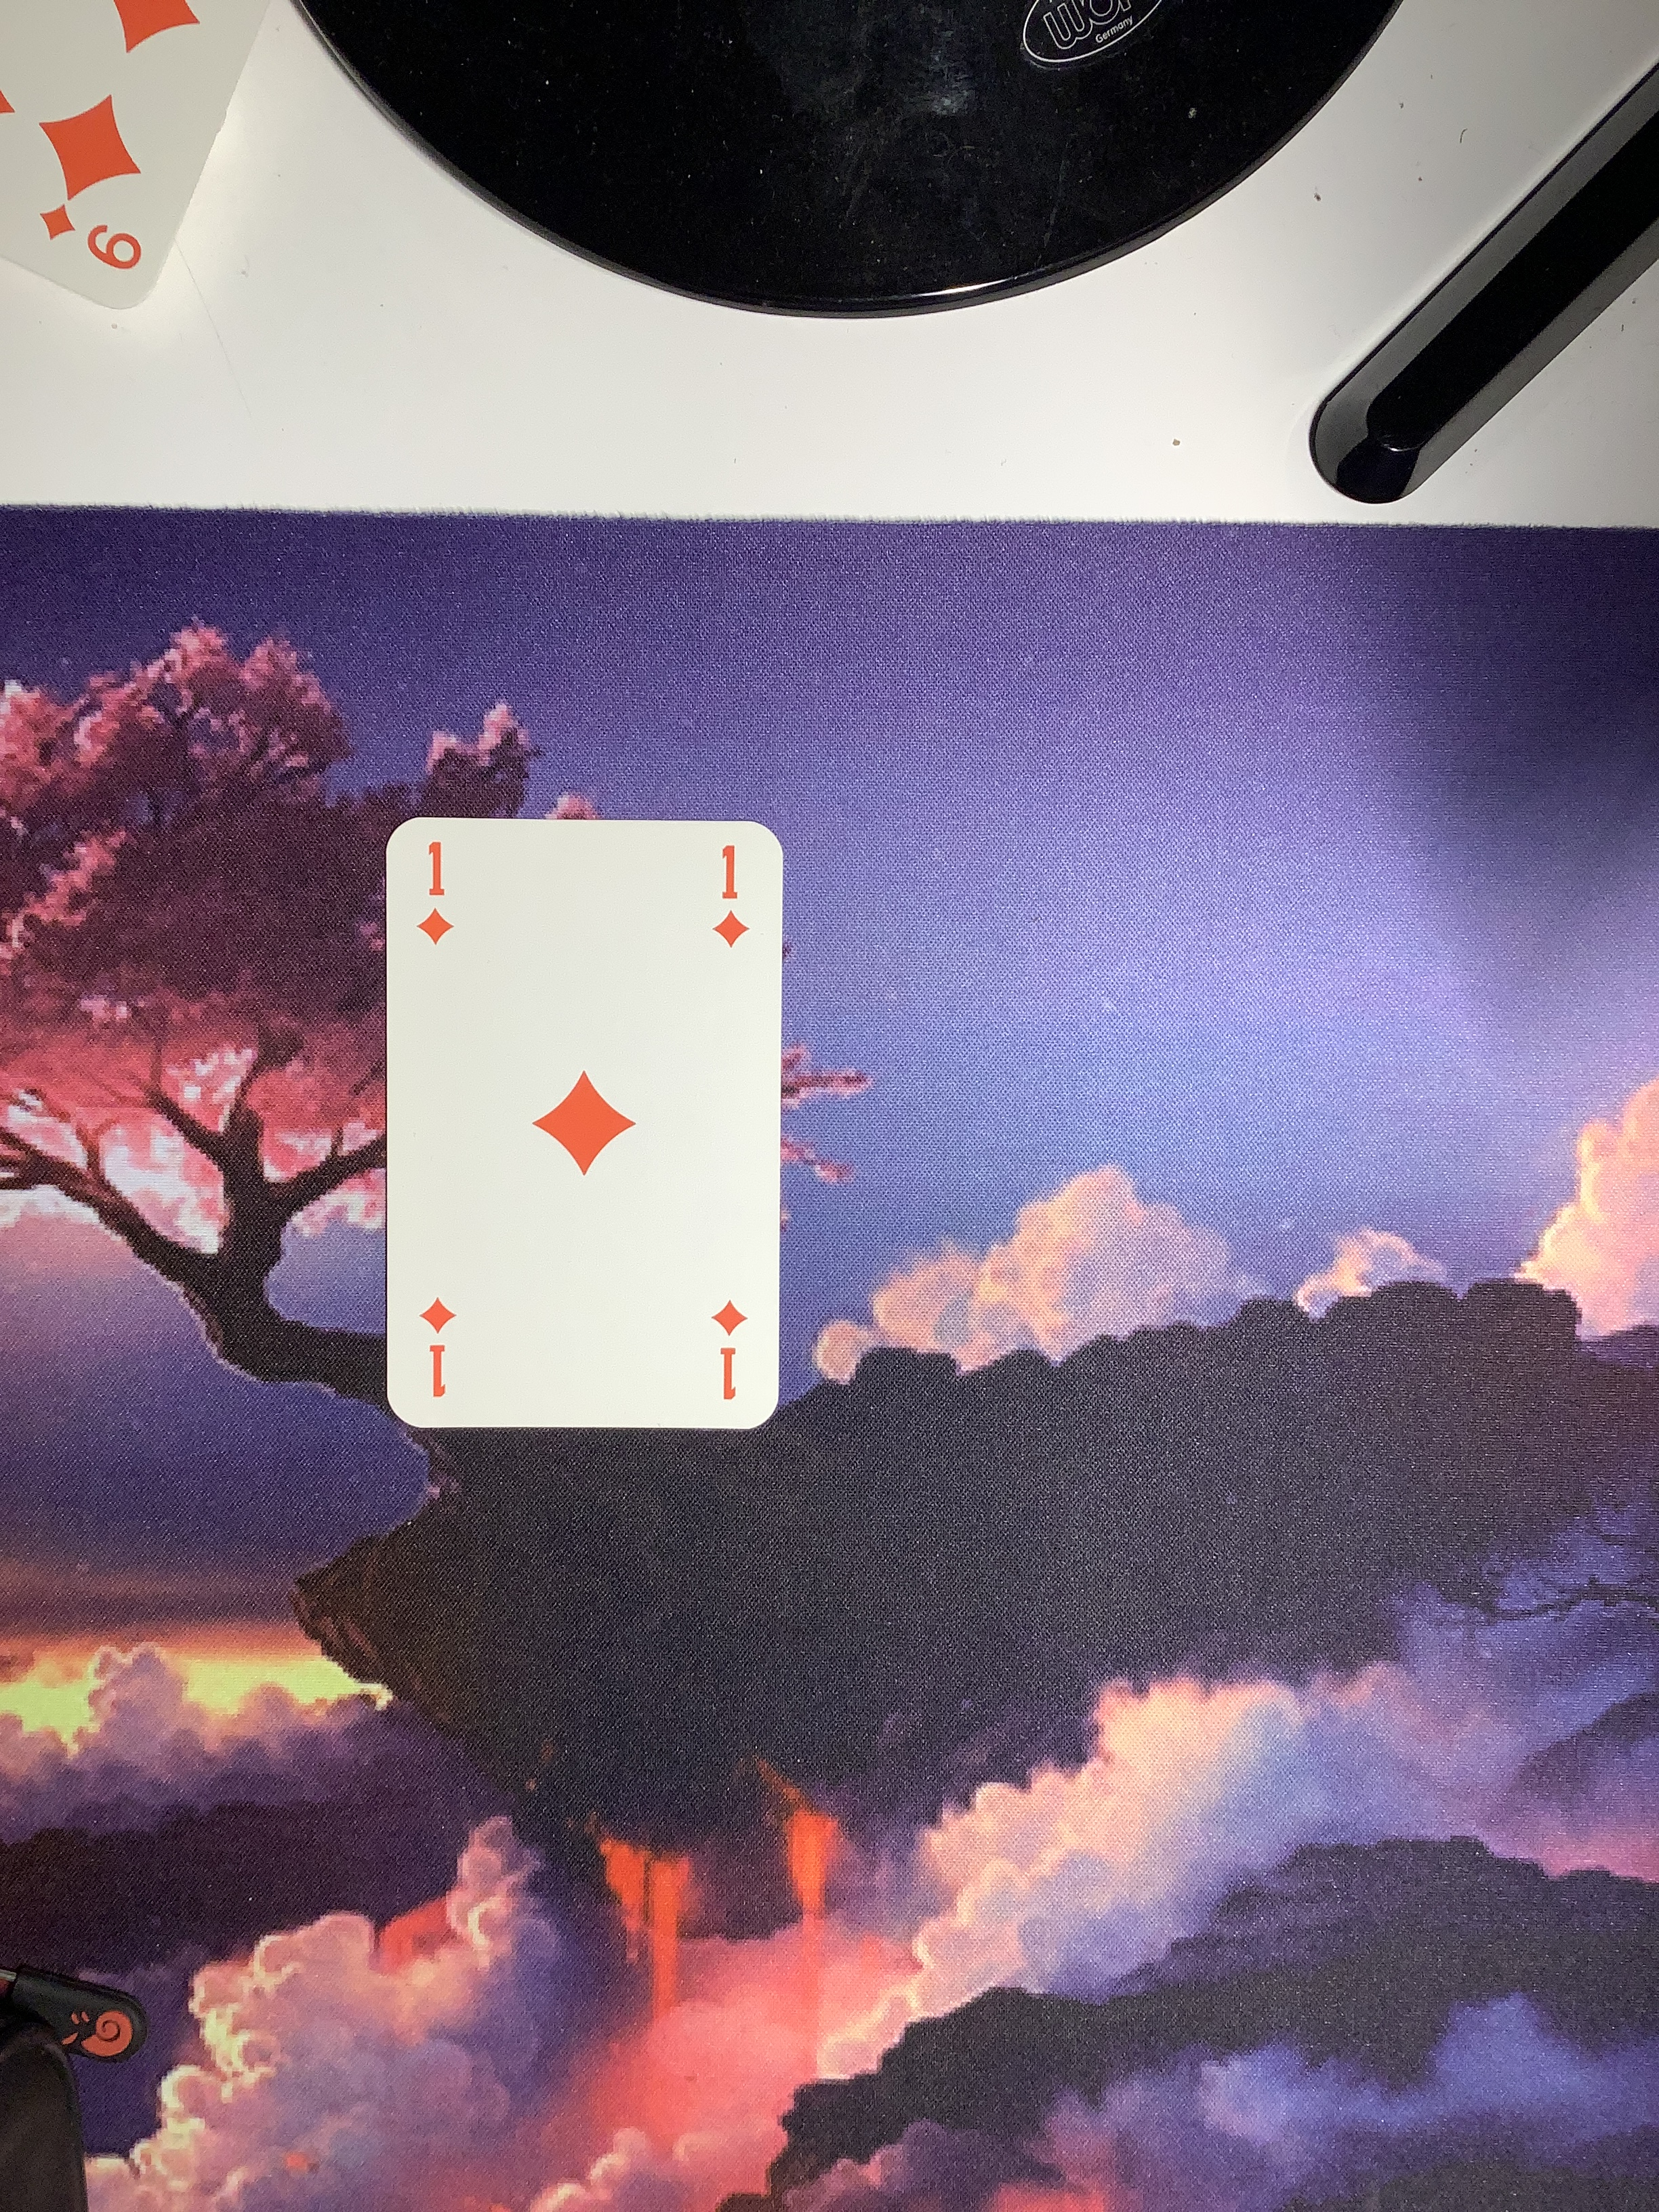♦ 1: (368, 796, 802, 1451)
